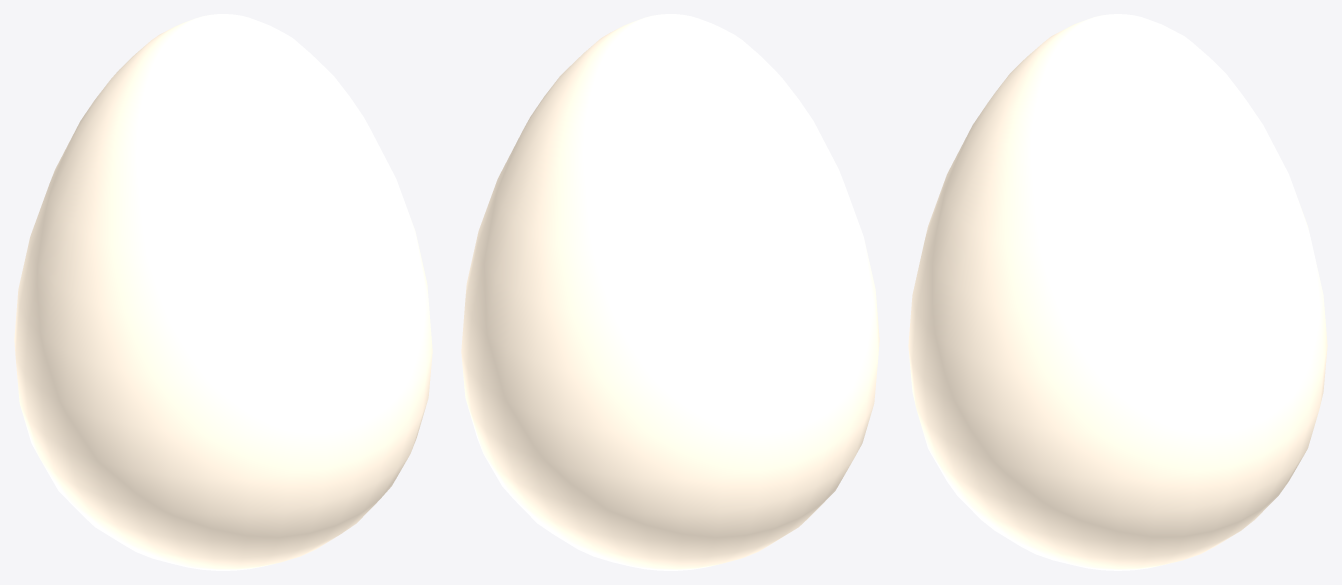
File: egg.gltf
The picture shows the model from 3 angles, left to right: view 1: azimuth 30°, elevation 25°; view 2: azimuth 150°, elevation 25°; view 3: azimuth 270°, elevation 25°; orthographic projection.
Parts seen in each view (by area): view 1: Sphere.489; view 2: Sphere.489; view 3: Sphere.489.
Part boxes in pixels (x1,y1,x2,y2): Sphere.489: (14, 14, 432, 570); Sphere.489: (461, 14, 879, 570); Sphere.489: (908, 14, 1327, 570).
Bounding box in the file's own units: 1.6 × 2.23 × 1.6.
1 material, 1 textured.
